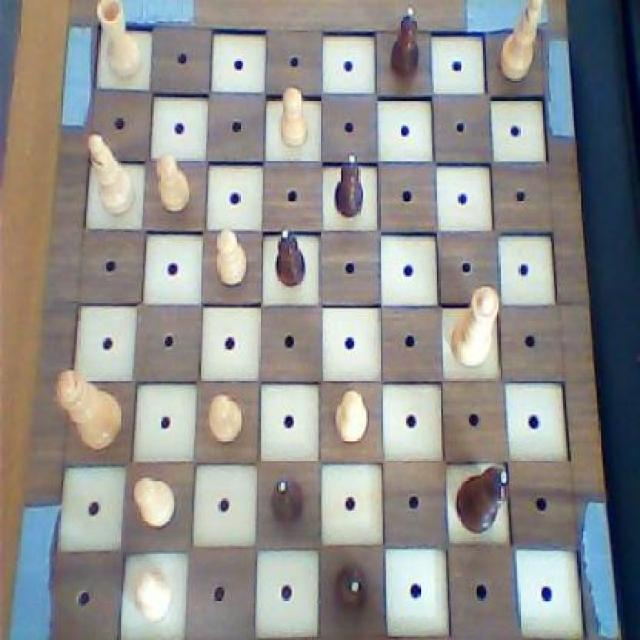black-bishop: (454, 460, 512, 536)
black-knight: (384, 5, 420, 80), (329, 560, 372, 619), (331, 147, 365, 220), (271, 226, 306, 291), (268, 476, 306, 532)
black-rook: (84, 130, 138, 218), (494, 0, 544, 83)
white-bishop: (52, 364, 127, 454)
white-knight: (130, 472, 178, 536), (129, 562, 174, 628), (152, 148, 193, 218), (331, 384, 371, 452), (211, 226, 251, 291), (276, 81, 312, 152), (203, 389, 245, 448)
white-pawn: (448, 282, 505, 373)
white-queen: (92, 0, 146, 82)
